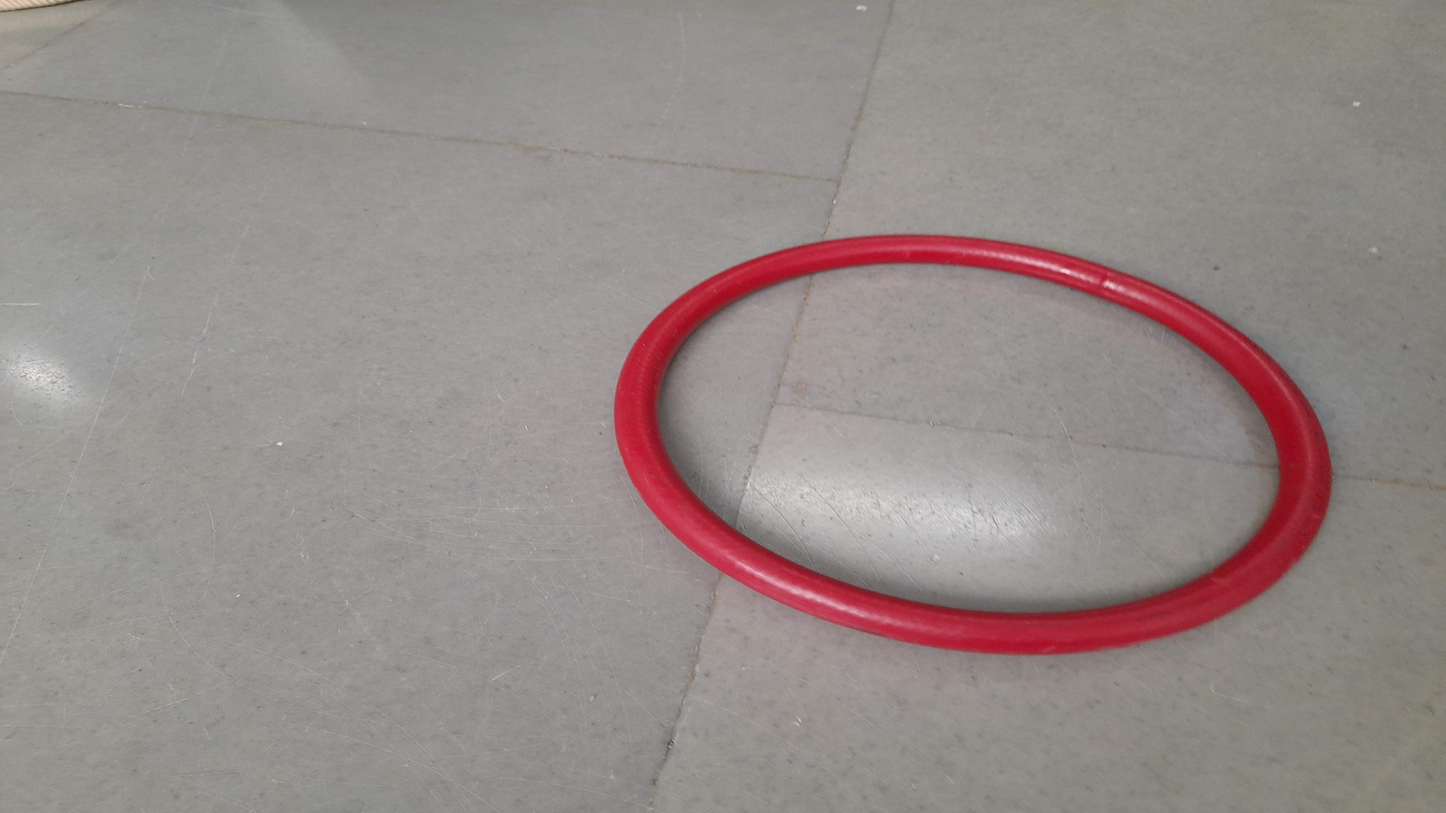Red ring: (614, 237, 1333, 656)
